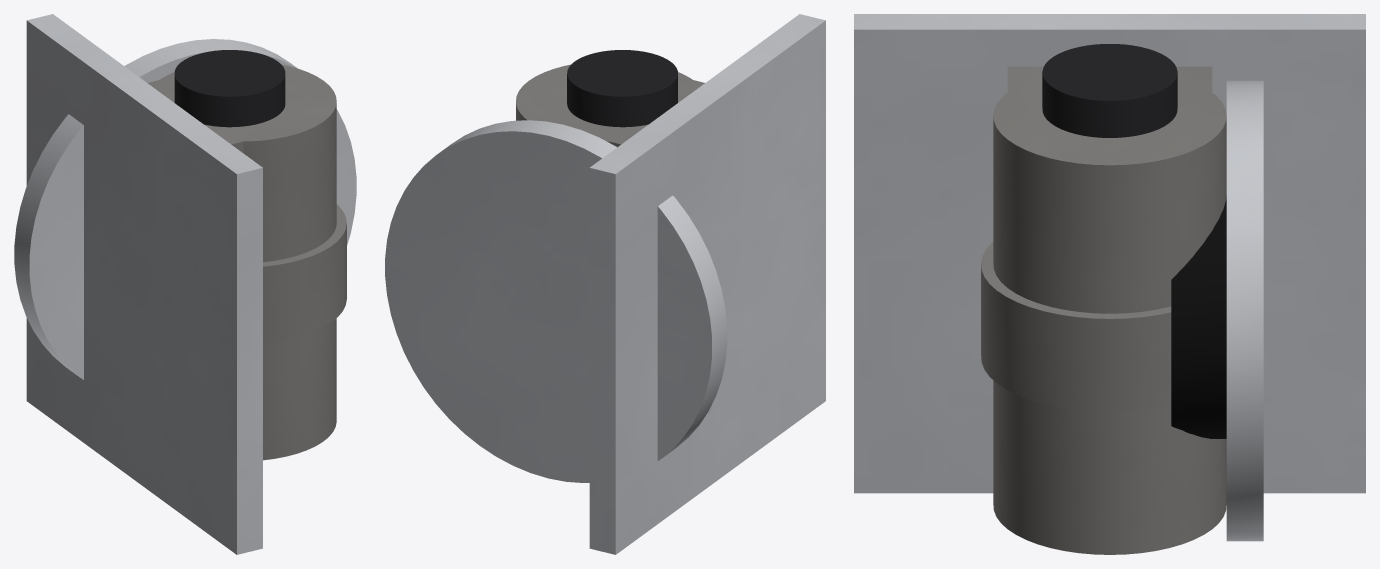
Rendered from rover18_steering_module_m_crab.glb.
3 renders of one model, left to right at view 1: azimuth 30°, elevation 25°; view 2: azimuth 150°, elevation 25°; view 3: azimuth 270°, elevation 25°, orthographic. The views are drawn at different scales.
Visible parts, largest first — view 1: mount_flange, slew_ring, half_b_flange, steer_motor; view 2: mount_flange, half_b_flange, steer_motor, slew_ring; view 3: mount_flange, slew_ring, half_b_flange, steer_motor, half_b_neck, yoke.
Boxes of the visible parts, x1=… form: mount_flange: x1=26, y1=14, x2=262, y2=554; slew_ring: x1=152, y1=64, x2=346, y2=460; half_b_flange: x1=14, y1=39, x2=356, y2=379; steer_motor: x1=174, y1=50, x2=285, y2=127; mount_flange: x1=589, y1=14, x2=825, y2=554; half_b_flange: x1=385, y1=120, x2=727, y2=482; steer_motor: x1=567, y1=50, x2=677, y2=127; slew_ring: x1=516, y1=64, x2=700, y2=142; mount_flange: x1=854, y1=14, x2=1365, y2=493; slew_ring: x1=981, y1=76, x2=1226, y2=554; half_b_flange: x1=1226, y1=80, x2=1263, y2=541; steer_motor: x1=1042, y1=44, x2=1177, y2=137; half_b_neck: x1=1171, y1=195, x2=1226, y2=438; yoke: x1=1007, y1=66, x2=1212, y2=115.
Size of the model in its own units: 0.2696 by 0.3 by 0.3.
4 materials, 2 textured.
